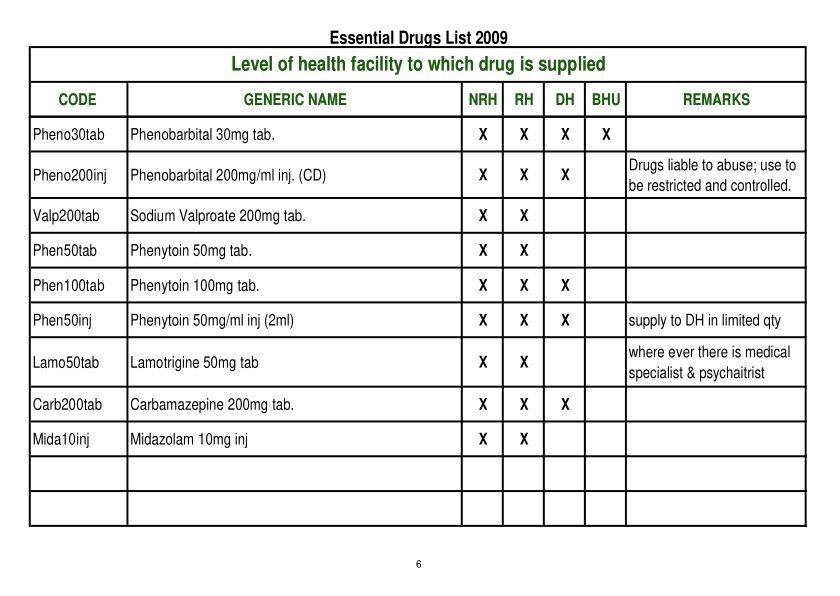merged_cells: (28, 45, 808, 528)
